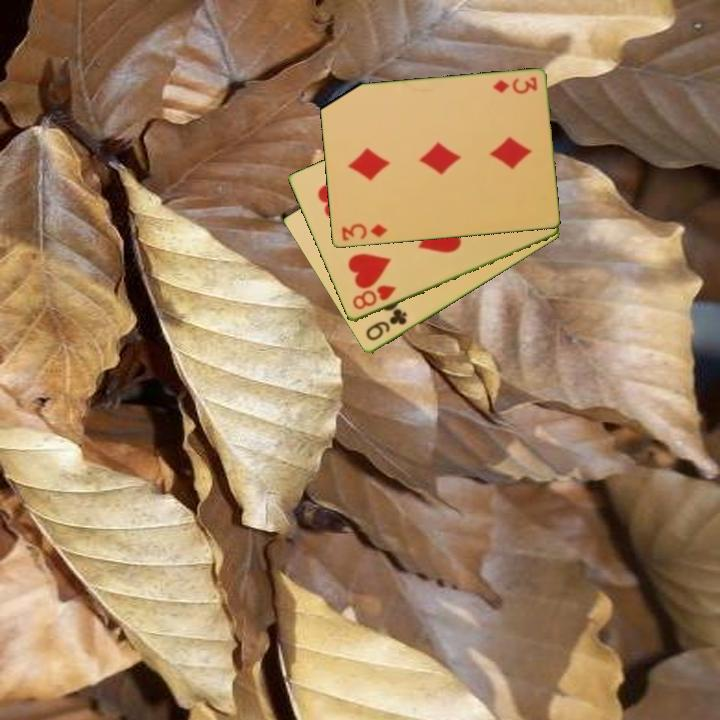3d: (338, 220, 390, 244), (489, 74, 540, 96)
8h: (349, 282, 399, 313)
9c: (362, 306, 410, 344)
